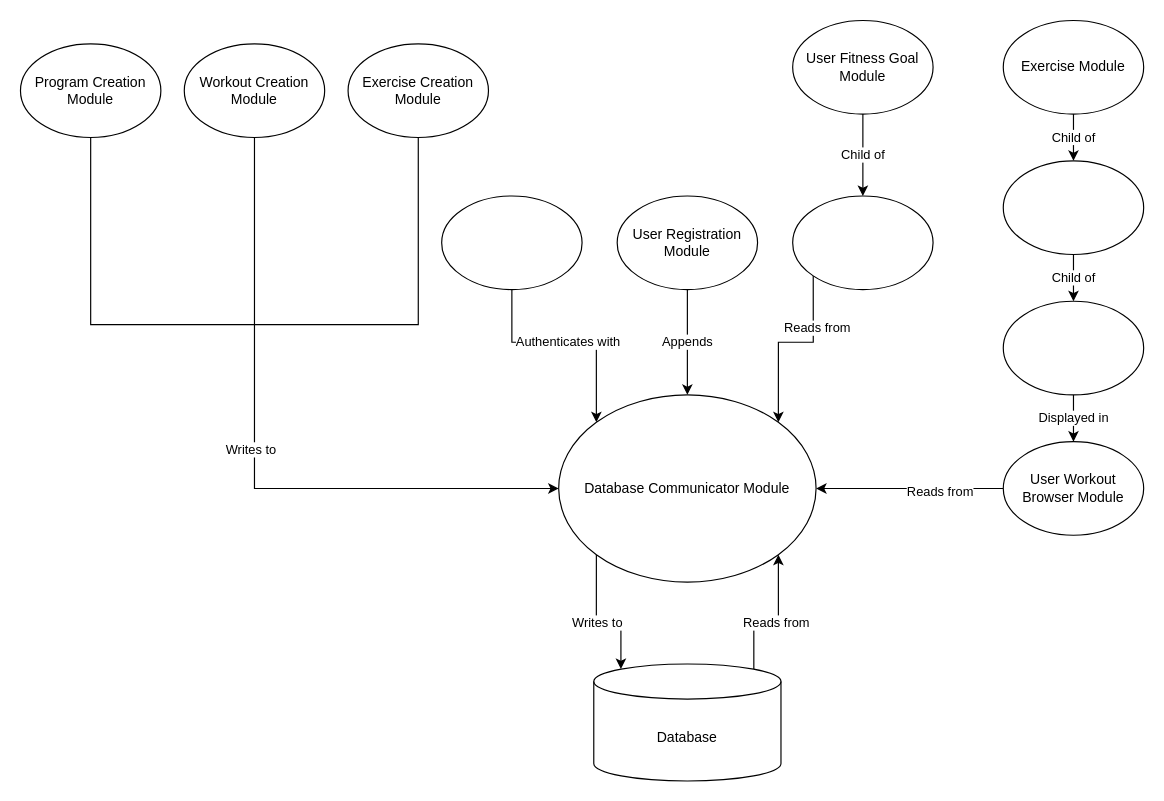
This 1164x801 diagram has some shape labels left out. Each missing label, with the centre of its shape:
"Program Module" goes at [1073,347].
"User Login Module" goes at [511,242].
"User Profile Module" goes at [862,242].
"Workout Module" goes at [1073,207].
